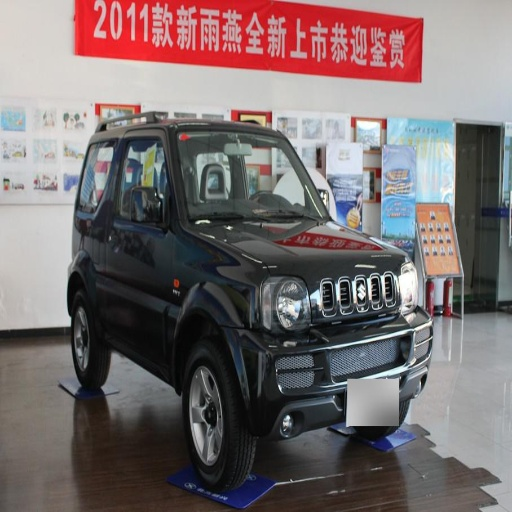front_bumper: (226, 258, 430, 438)
front_right_door: (112, 135, 170, 360)
front_right_light: (254, 274, 309, 329)
